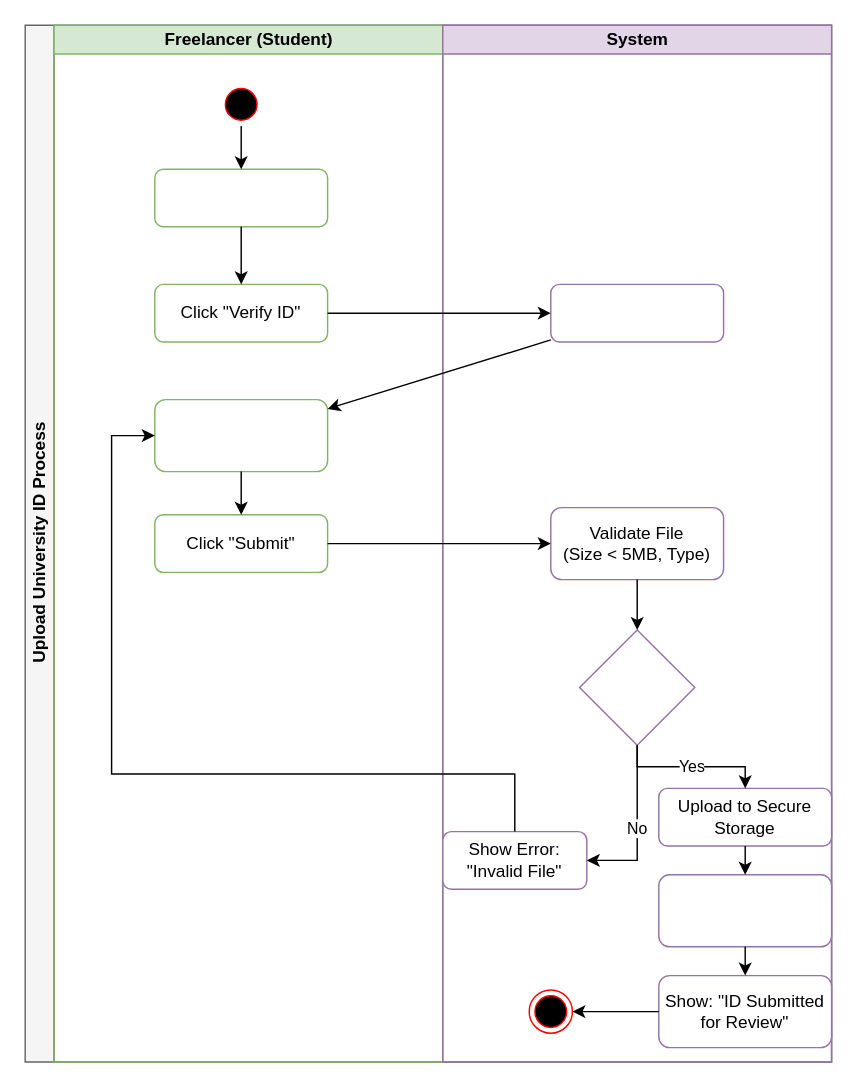
The diagram is 857 pixels wide and 1087 high, and some of its shapes have lost their labels. Here are the shapes that lost their labels. From the top down, the centre of each, then its label:
(240,197): Navigate to Profile Settings
(636,312): Display Upload Form
(240,435): Select Image File (ID Card)
(636,687): Valid?
(744,910): Set Status: "Pending Verification"
